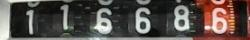digits: (94, 7, 113, 34), (172, 4, 190, 30), (133, 6, 150, 33), (210, 7, 226, 33), (58, 4, 72, 32), (26, 9, 34, 34)
